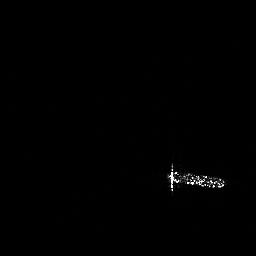ship: (163, 159, 230, 195)
